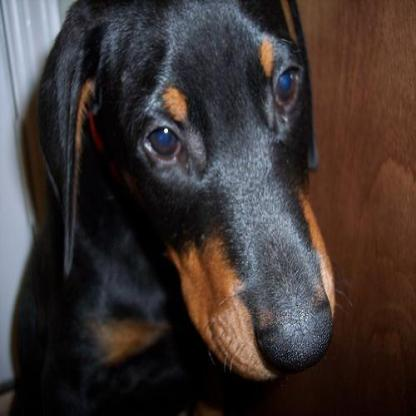Doberman: (9, 0, 348, 414)
